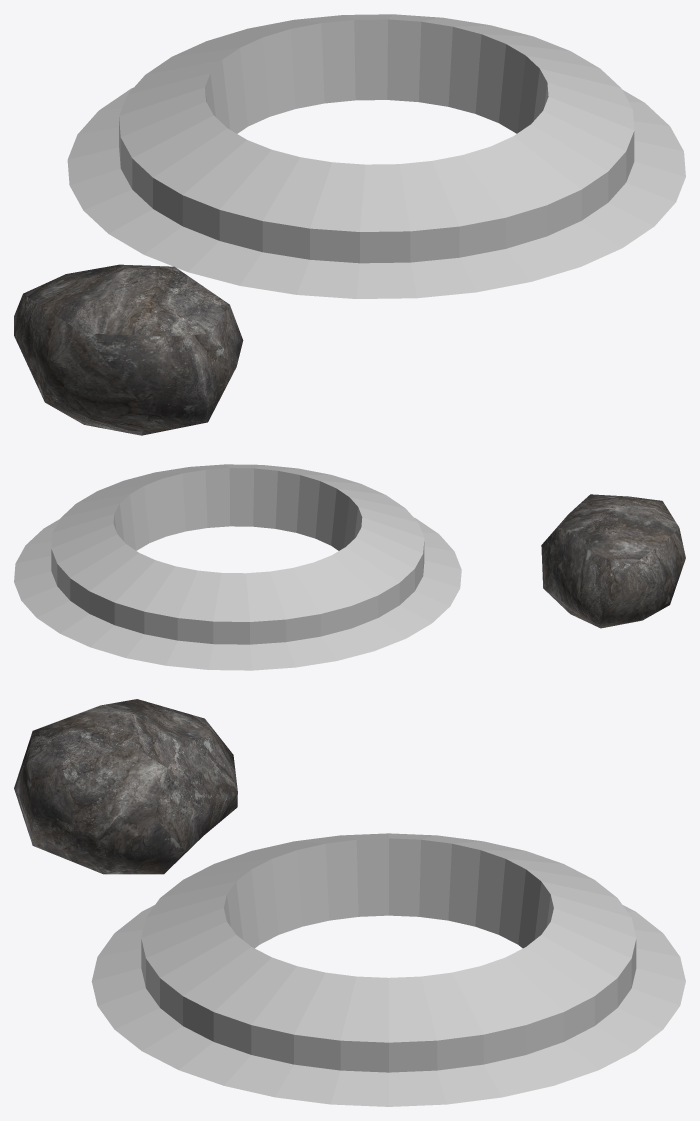
Rendered from Nexus1.fbx.
3 renders of one model, top to bottom at view 1: azimuth 30°, elevation 25°; view 2: azimuth 150°, elevation 25°; view 3: azimuth 270°, elevation 25°, orthographic. The views are drawn at different scales.
Parts seen in each view (by area): view 1: Puit, Pierre1; view 2: Puit, Pierre1; view 3: Puit, Pierre1.
Part boxes in pixels (x1=…): Puit: x1=67, y1=14, x2=685, y2=298; Pierre1: x1=14, y1=264, x2=243, y2=435; Puit: x1=14, y1=464, x2=461, y2=670; Pierre1: x1=541, y1=494, x2=685, y2=628; Puit: x1=91, y1=833, x2=685, y2=1106; Pierre1: x1=14, y1=699, x2=237, y2=874.
Bounding box in the file's own units: 497 × 103 × 407.
